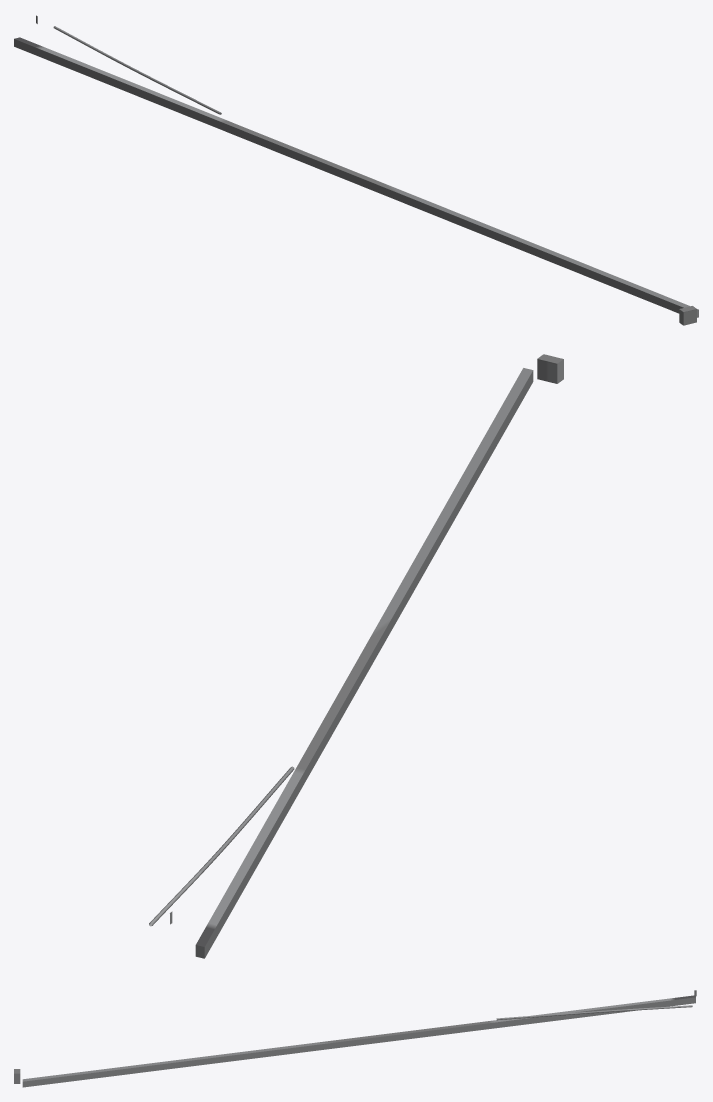
The picture shows the model from 3 angles, top to bottom: view 1: azimuth 30°, elevation 25°; view 2: azimuth 150°, elevation 25°; view 3: azimuth 270°, elevation 25°; orthographic projection. The views are drawn at different scales.
Size of the model in its own units: 0.6162 by 0.0632 by 2.06.
